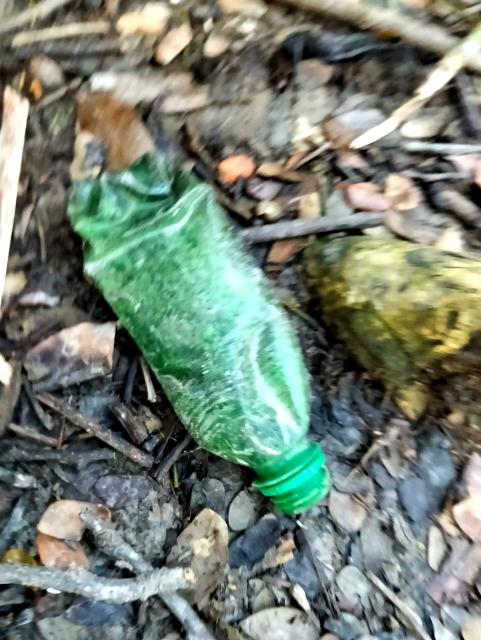bottle: (43, 119, 358, 560)
